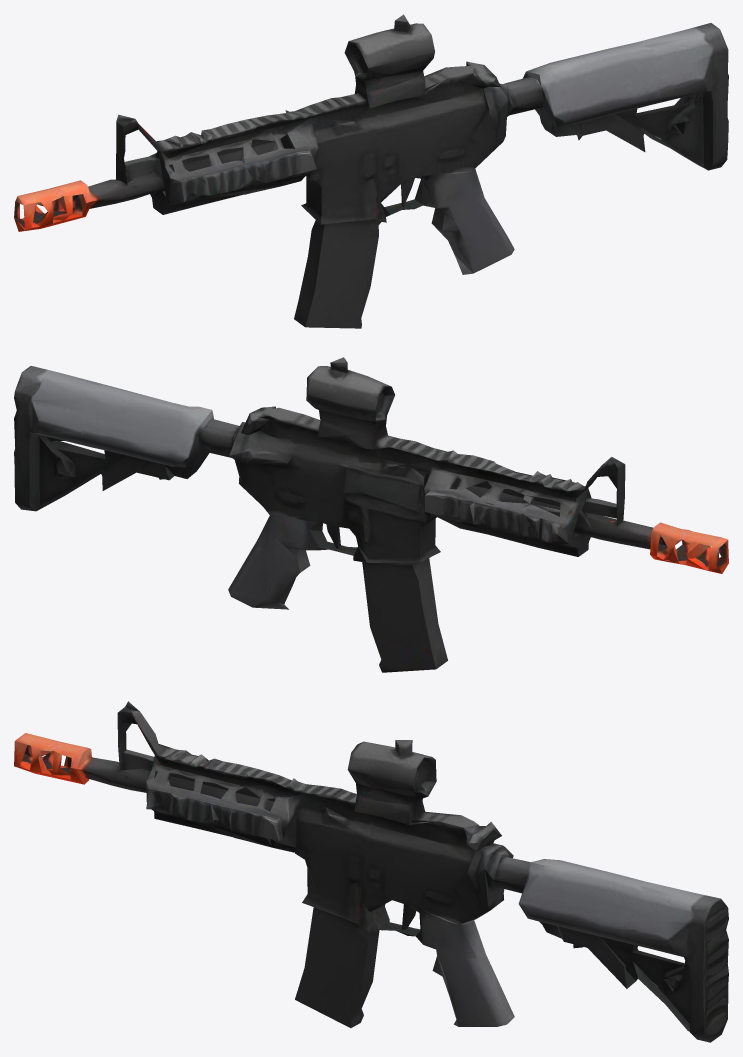
The model's file is arma_fuzil.glb.
The picture shows the model from 3 angles, top to bottom: view 1: azimuth 30°, elevation 25°; view 2: azimuth 150°, elevation 25°; view 3: azimuth 330°, elevation 25°; orthographic projection.
Visible parts, largest first — view 1: tripo_node_1463a7ae-cbc5-48f5-84c1-abfd0e9e4d9d; view 2: tripo_node_1463a7ae-cbc5-48f5-84c1-abfd0e9e4d9d; view 3: tripo_node_1463a7ae-cbc5-48f5-84c1-abfd0e9e4d9d.
Boxes of the visible parts, <box> form: tripo_node_1463a7ae-cbc5-48f5-84c1-abfd0e9e4d9d: <box>14,14,728,328</box>; tripo_node_1463a7ae-cbc5-48f5-84c1-abfd0e9e4d9d: <box>14,357,728,672</box>; tripo_node_1463a7ae-cbc5-48f5-84c1-abfd0e9e4d9d: <box>14,701,728,1042</box>.
Size of the model in its own units: 0.9995 by 0.4049 by 0.0987.
Materials: 1 (1 with a texture image).
